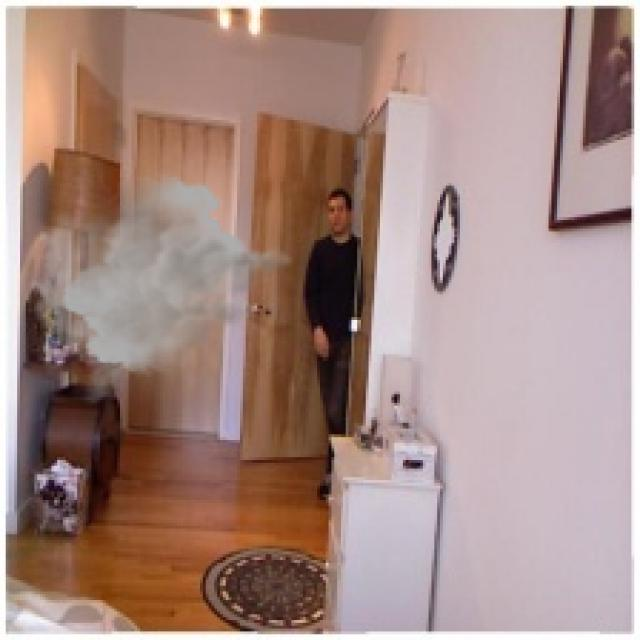smoke: (26, 171, 297, 406)
